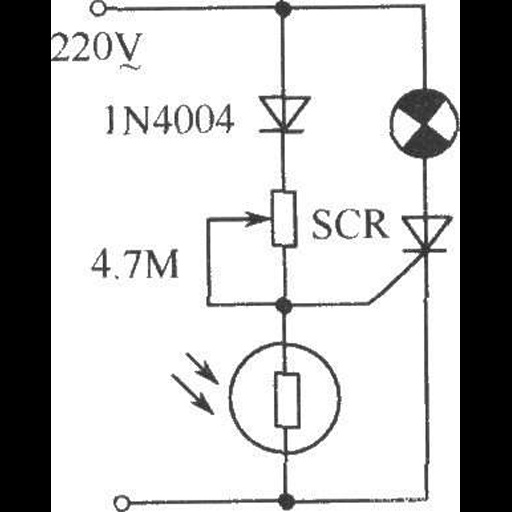seconddiode: (255, 90, 318, 143)
